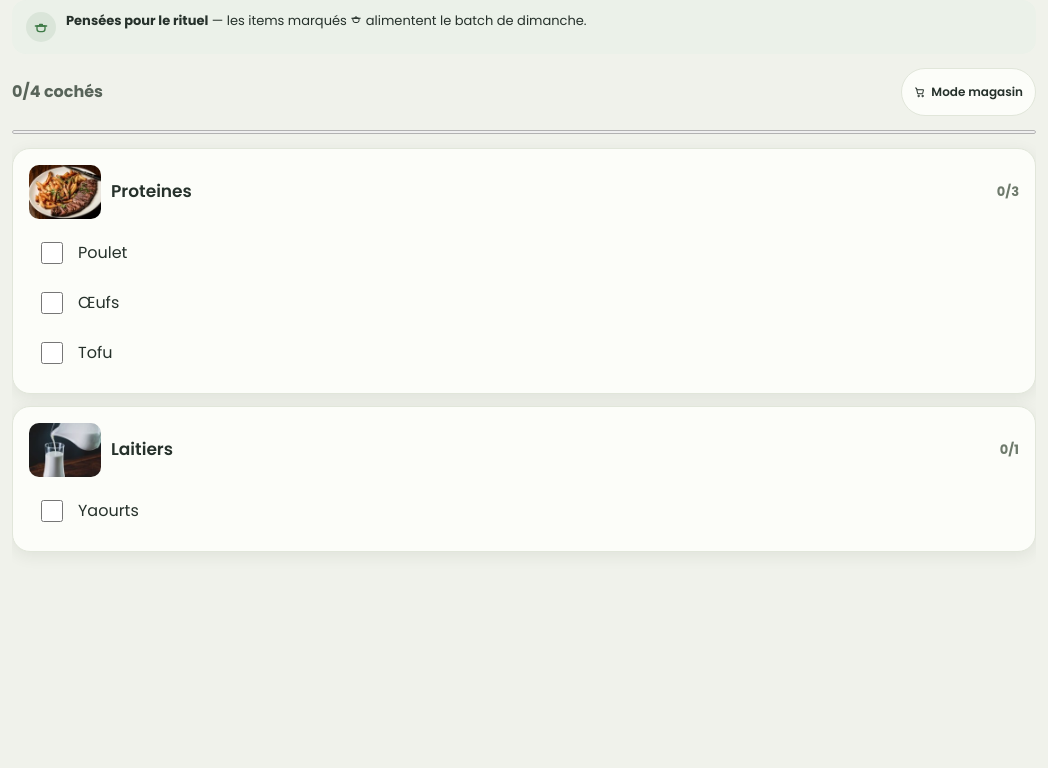
Test: ShoppingList › updates the progress live when items are checked
The image size is (1048, 768).
Click the checkbox labelled "Poulet".
click(52, 253)  # box [41,242,63,264]
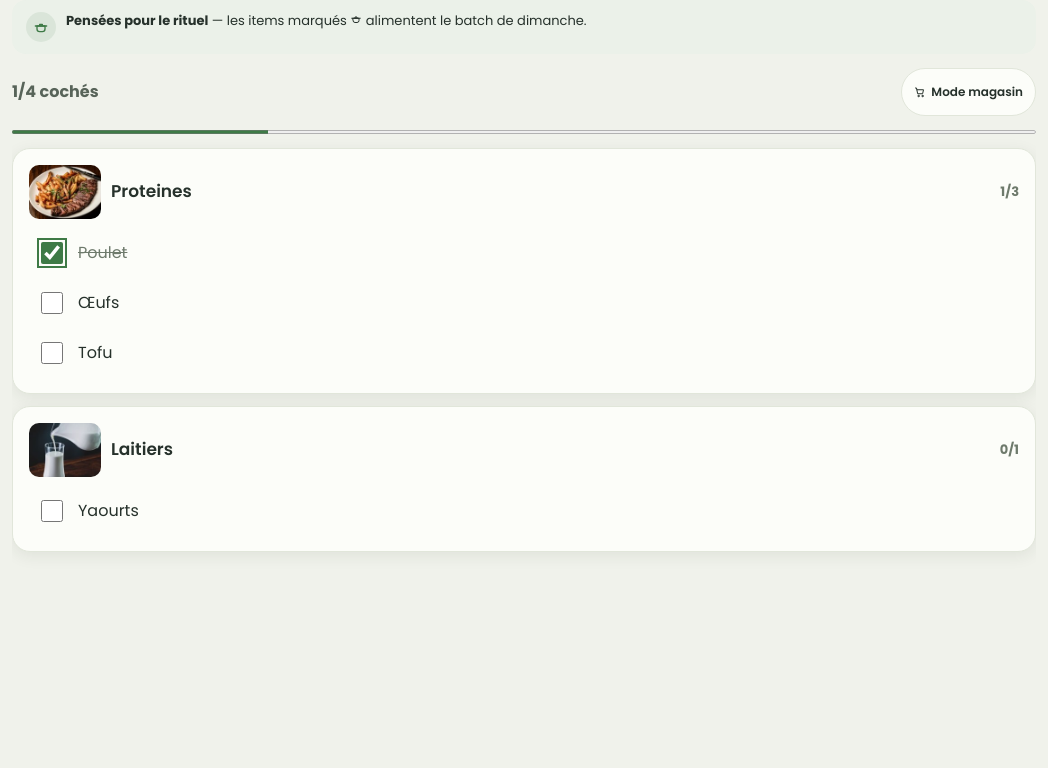
Click the checkbox labelled "Yaourts".
click(52, 511)  # box [41,500,63,522]
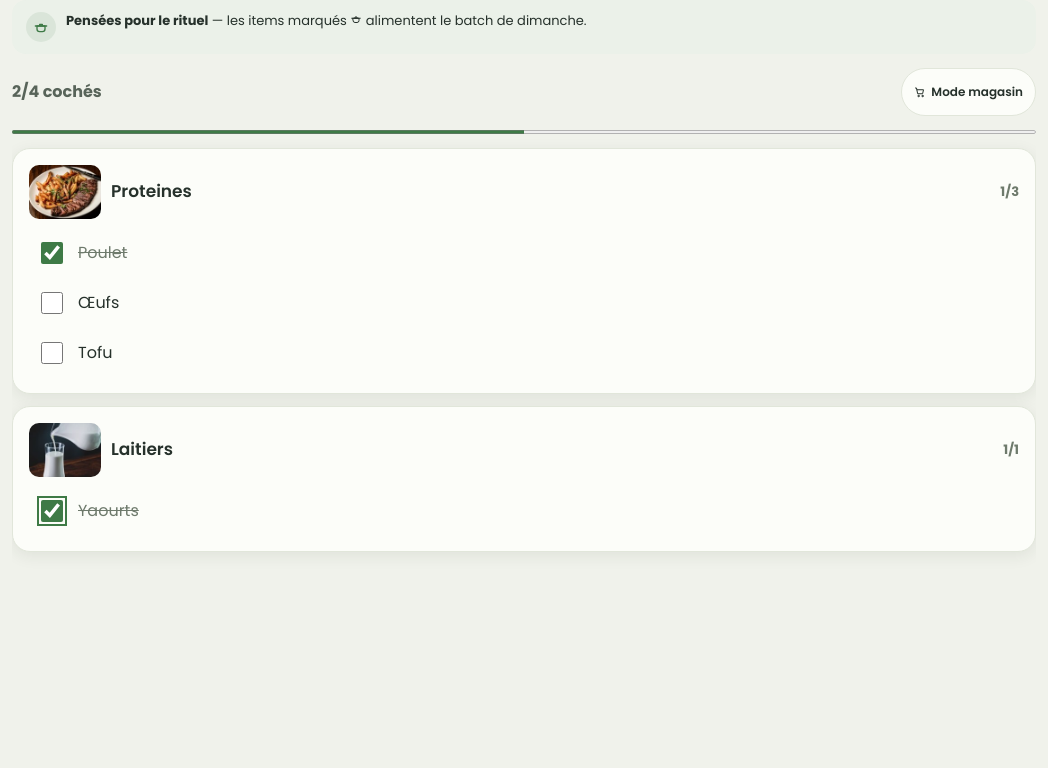
Result: the text "2/4 cochés" is shown at [12,68,1036,136]
